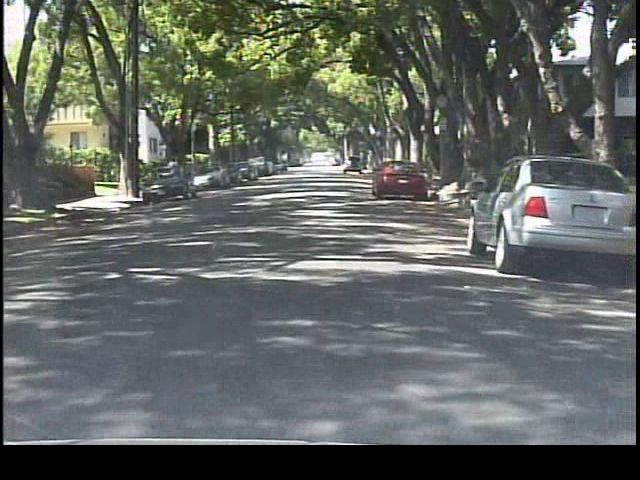person: (165, 155, 184, 191)
